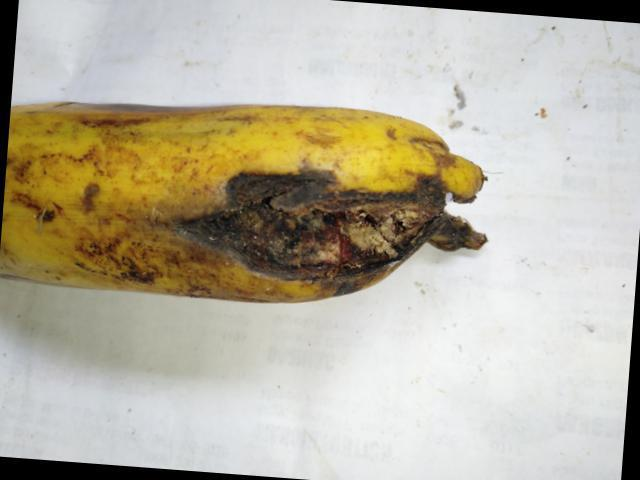ripe: (0, 80, 503, 316)
rotten: (152, 139, 524, 337)
